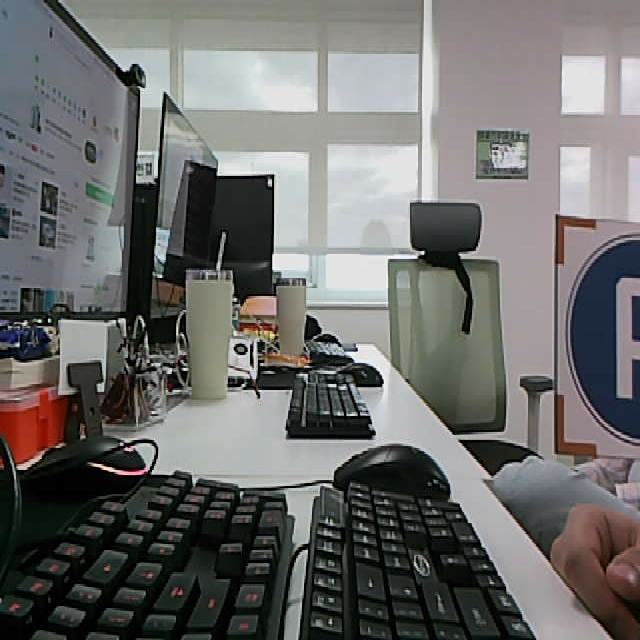parking: (554, 215, 640, 459)
